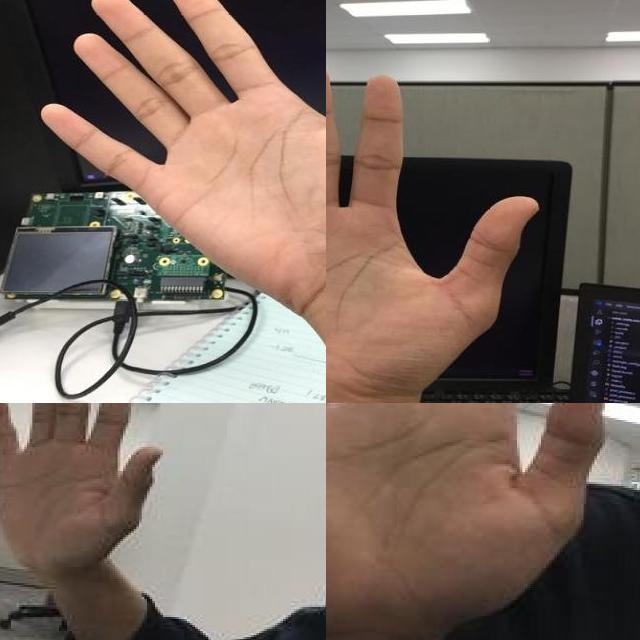hand: (40, 0, 326, 283), (326, 60, 544, 403), (326, 403, 621, 640), (0, 403, 168, 573)
